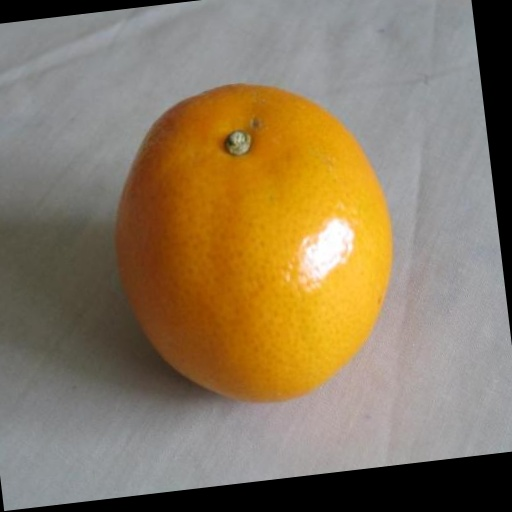fruit: (116, 85, 391, 401)
